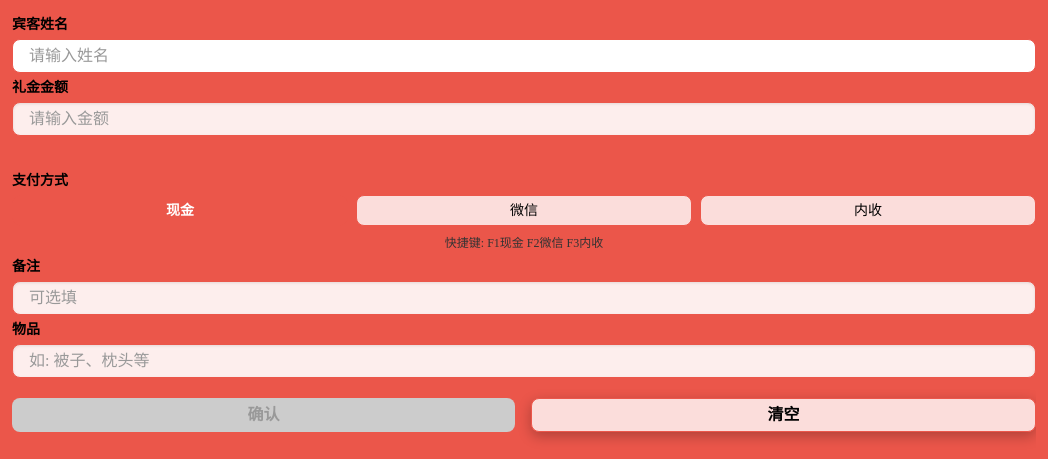
Test: RecordForm › should clear form when clear button clicked
Type "张三" into the field with placeholder "请输入姓名" at (524, 56), box 12,39 -> 1036,73
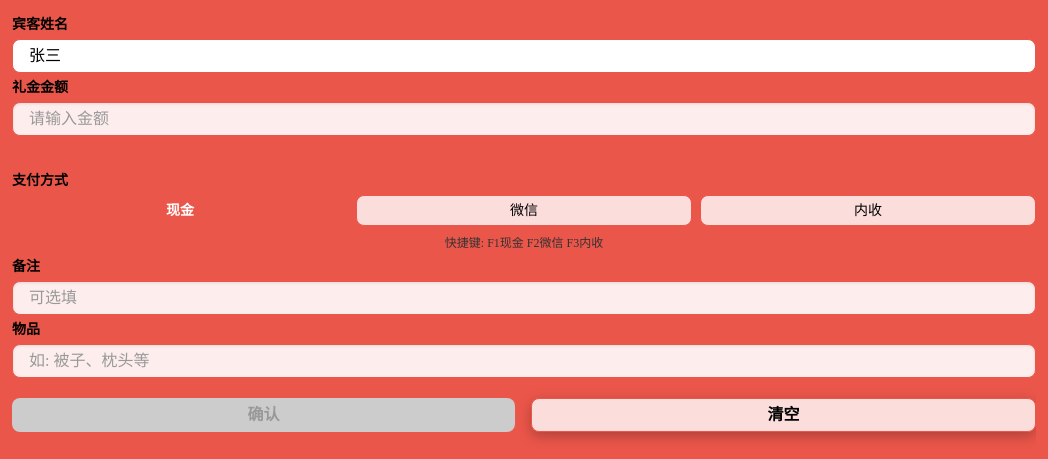
Type "100" into the field with placeholder "请输入金额" at (524, 119), box 12,102 -> 1036,136
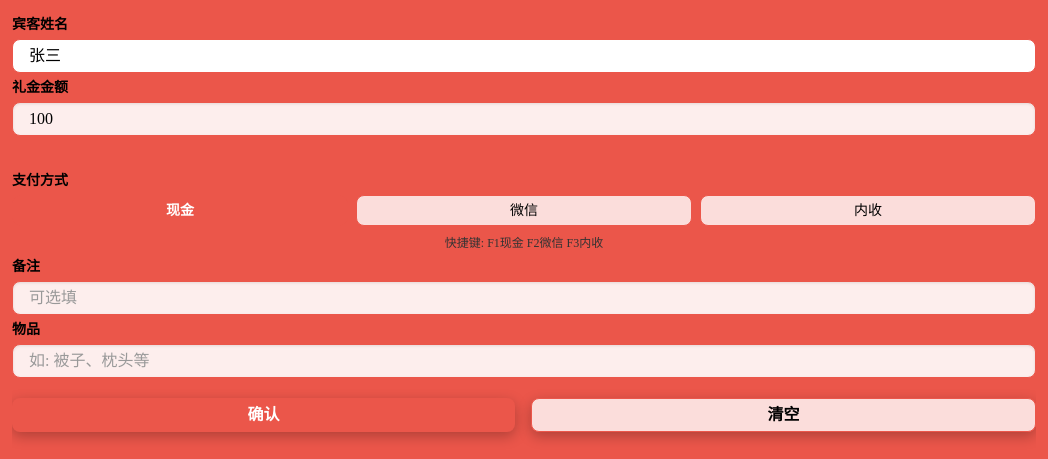
Click the button with class "clear-btn" at (784, 415), box 531,398 -> 1036,432
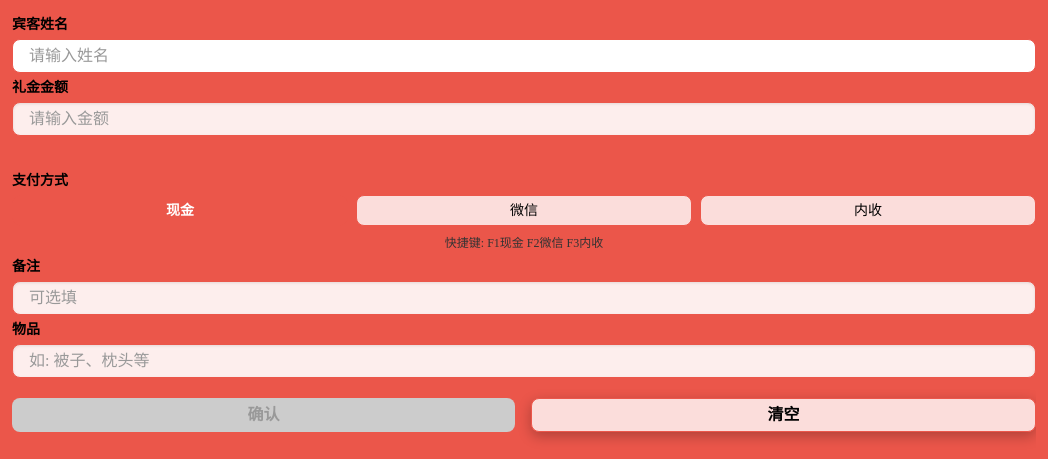
Check: the field with placeholder "请输入姓名" is empty, box 12,39 -> 1036,73
